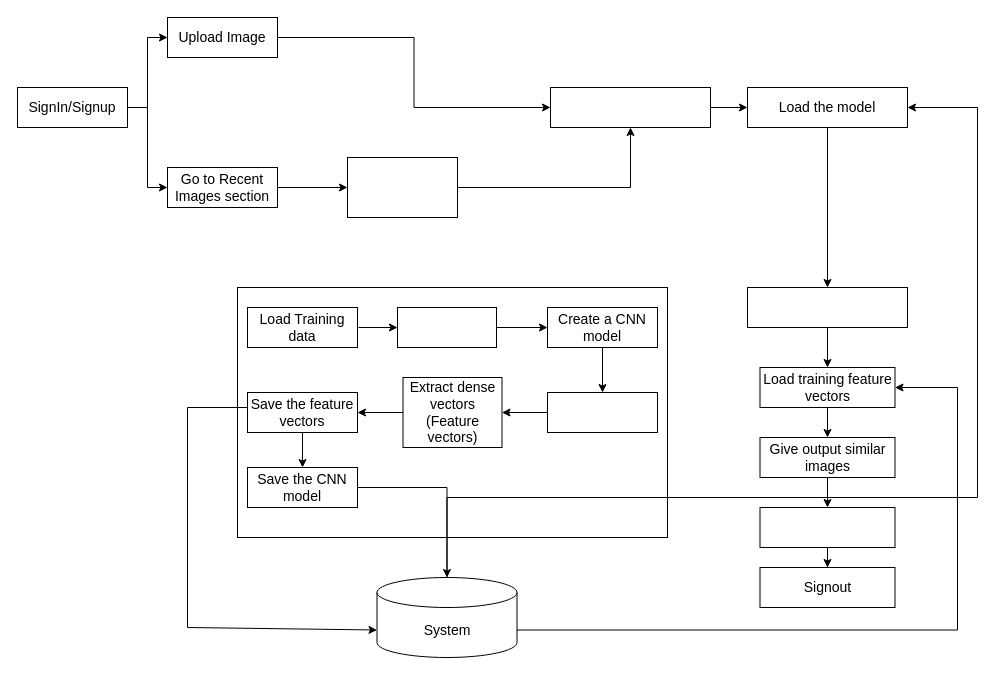
This 1003x675 diagram has some shape labels left out. The shapes that lost their labels are listed below. From the top down, each one's centre as x and y in pixels, then its label:
the point at 630,107: Preprocessing the image
the point at 402,187: Click on the image to be selected
the point at 446,327: Preprocessing
the point at 827,307: Extract dense vectors for uploaded image
the point at 602,412: Test the model with test data
the point at 827,527: Render onto the UI
